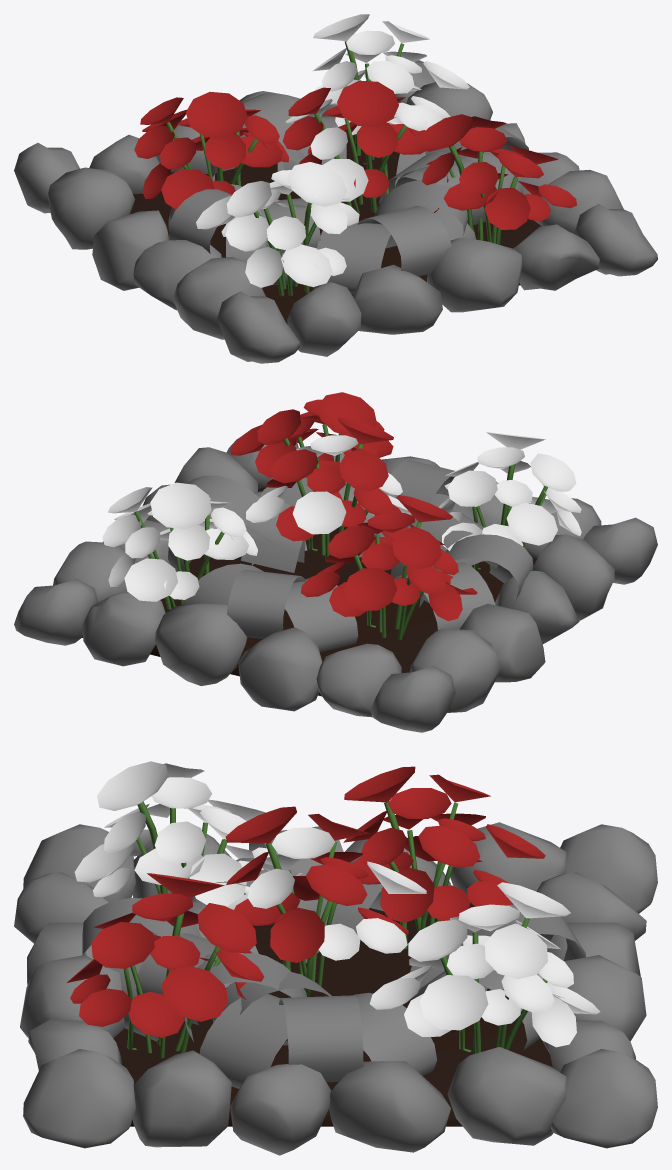
Rendered from SM_flowerbed_01.fbx.
3 renders of one model, top to bottom at view 1: azimuth 30°, elevation 25°; view 2: azimuth 150°, elevation 25°; view 3: azimuth 270°, elevation 25°, orthographic. The views are drawn at different scales.
Visible parts, largest first — view 1: Box046, Object342709, Object342716; view 2: Box046, Object342709, Object342716; view 3: Box046, Object342709, Object342716.
Boxes of the visible parts, box(x1,y1,x2,y2) form: Box046: box(14, 60, 657, 363); Object342709: box(134, 14, 576, 296); Object342716: box(168, 92, 528, 294); Box046: box(14, 439, 657, 732); Object342709: box(102, 392, 581, 640); Object342716: box(159, 460, 533, 652); Box046: box(14, 822, 657, 1155); Object342709: box(67, 761, 600, 1058); Object342716: box(82, 826, 586, 1088).
Bounding box in the file's own units: 71.39 × 27.92 × 70.79.
